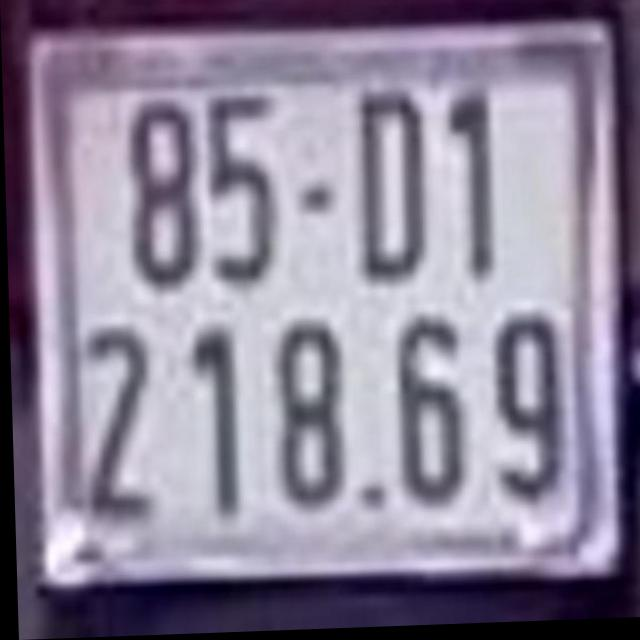1: (188, 330, 243, 508), (454, 100, 503, 274)
2: (80, 326, 150, 511)
5: (204, 97, 284, 284)
6: (391, 319, 459, 511)
8: (128, 98, 197, 285), (281, 322, 343, 511)
9: (489, 312, 557, 500)
D: (353, 86, 425, 279)
